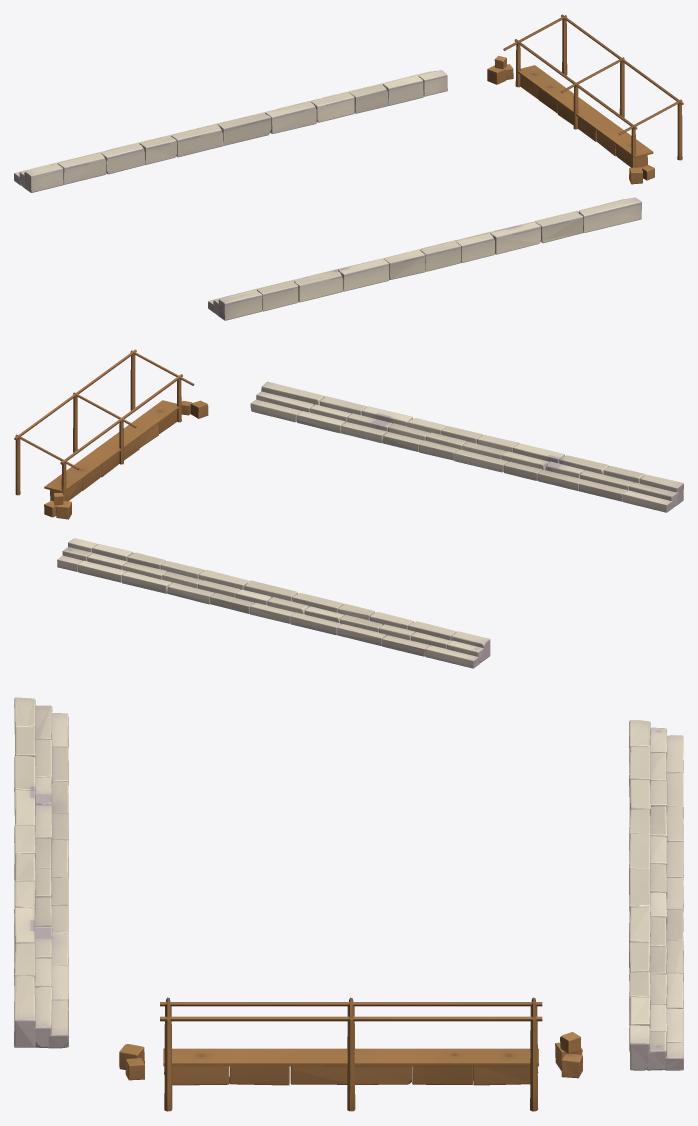
Rendered from cliffside_2.glb.
The picture shows the model from 3 angles, top to bottom: view 1: azimuth 30°, elevation 25°; view 2: azimuth 150°, elevation 25°; view 3: azimuth 270°, elevation 25°; orthographic projection. The views are drawn at different scales.
Parts seen in each view (by area): view 1: Lobby_Steps_Stone, Lobby_Stall_Timber; view 2: Lobby_Steps_Stone, Lobby_Stall_Timber; view 3: Lobby_Steps_Stone, Lobby_Stall_Timber.
Part boxes in pixels (x1,y1,x2,y2): Lobby_Steps_Stone: (14, 70, 641, 320); Lobby_Stall_Timber: (487, 14, 683, 184); Lobby_Steps_Stone: (57, 381, 683, 668); Lobby_Stall_Timber: (14, 349, 208, 519); Lobby_Steps_Stone: (14, 697, 683, 1070); Lobby_Stall_Timber: (119, 997, 582, 1111).
Bounding box in the file's own units: 111 × 16.3 × 80.61.
Materials: 2 (2 with a texture image).
